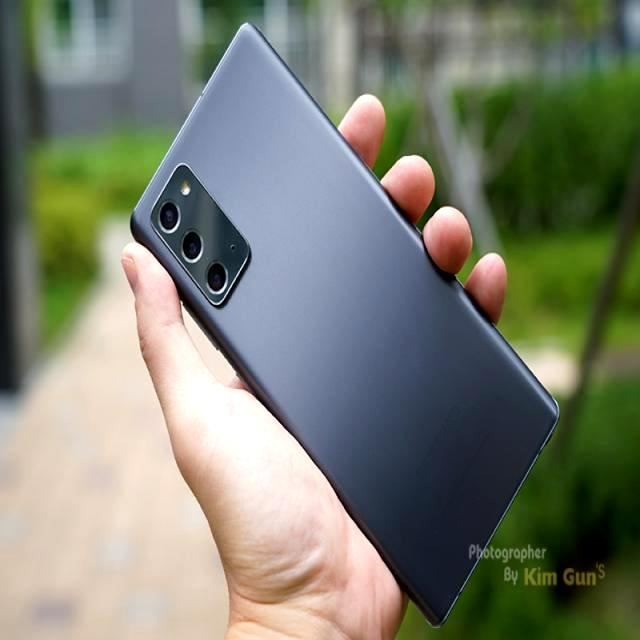lens_back: (144, 190, 187, 237), (200, 251, 234, 299), (175, 221, 207, 267)
phone: (126, 23, 568, 631)
